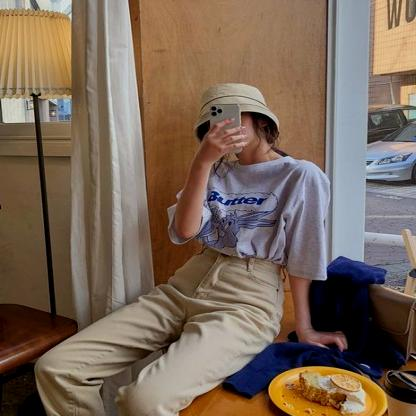dress: (38, 251, 286, 416), (159, 152, 328, 284)
